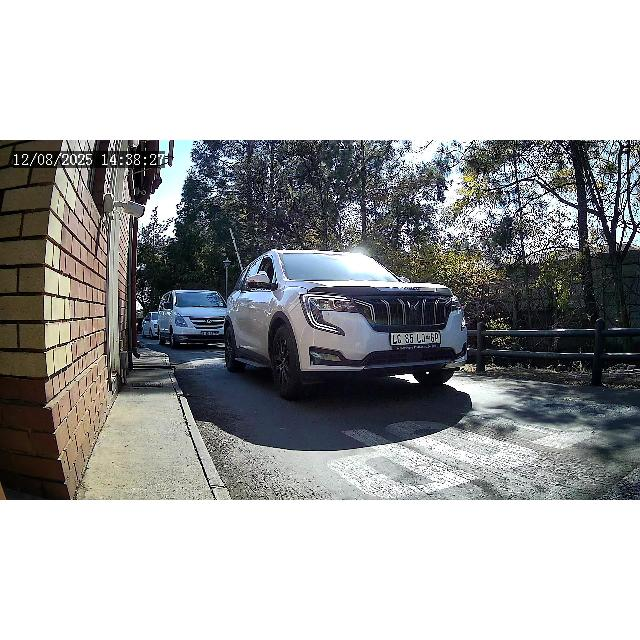car: (222, 248, 470, 399), (157, 289, 227, 349)
plate: (389, 332, 441, 344), (201, 331, 219, 335)
